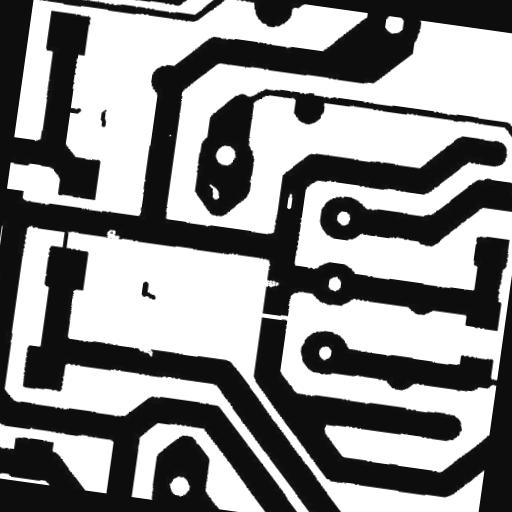copper: (132, 272, 166, 308), (90, 100, 116, 136)
mousebite: (254, 271, 287, 298), (130, 338, 162, 365), (98, 220, 128, 248)
open: (250, 303, 297, 329)
pin-hole: (198, 175, 228, 208), (278, 184, 301, 218)
short: (54, 222, 77, 258)
spur: (58, 98, 90, 123)
